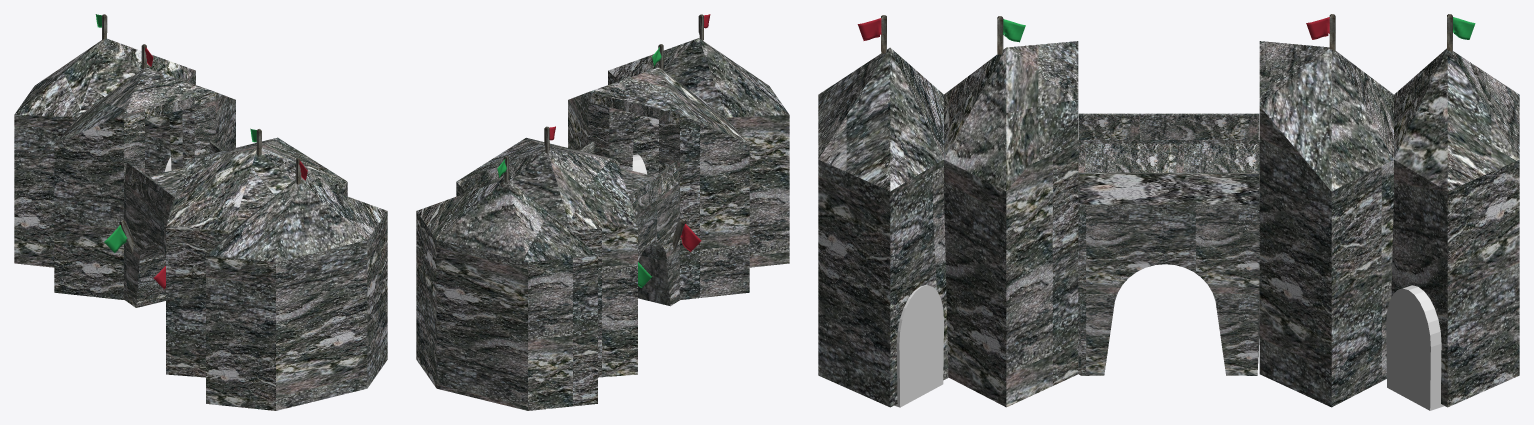
The model's file is add ladder tower.fbx.
The picture shows the model from 3 angles, left to right: view 1: azimuth 30°, elevation 25°; view 2: azimuth 150°, elevation 25°; view 3: azimuth 270°, elevation 25°; orthographic projection. The views are drawn at different scales.
Visible parts, largest first — view 1: Cube.011, Cube.001, Cube.010, Plane.003; view 2: Cube.011, Cube.001, Cube.010; view 3: Cube.011, Cube.001, Cube.009, Circle, Cube.010, Circle.001.
Part boxes in pixels (x1,y1,x2,y2): Cube.011: (14,38,387,410); Cube.001: (124,92,215,307); Cube.010: (124,162,175,215); Plane.003: (104,225,127,252); Cube.011: (416,38,789,410); Cube.001: (588,92,679,306); Cube.010: (628,162,679,215); Cube.011: (818,41,1519,407); Cube.001: (1078,140,1259,375); Cube.009: (1078,172,1259,204); Circle: (1386,285,1444,410); Cube.010: (1078,113,1259,143); Circle.001: (894,285,943,407).
Bounding box in the file's own units: 299 × 358 × 686.
